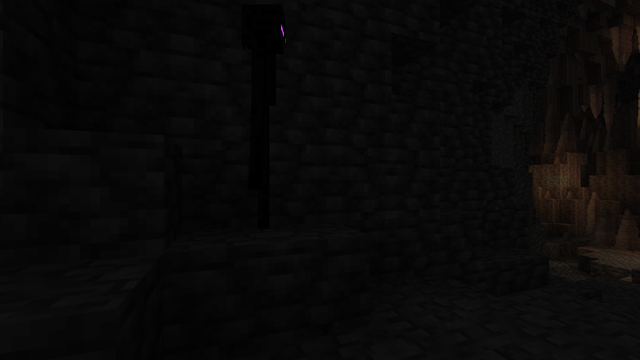endermens: (241, 0, 292, 231)
